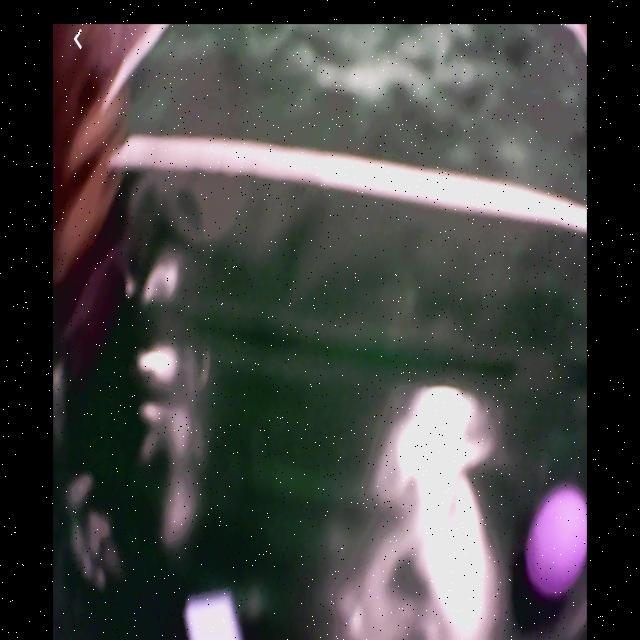ball: (524, 487, 588, 596)
